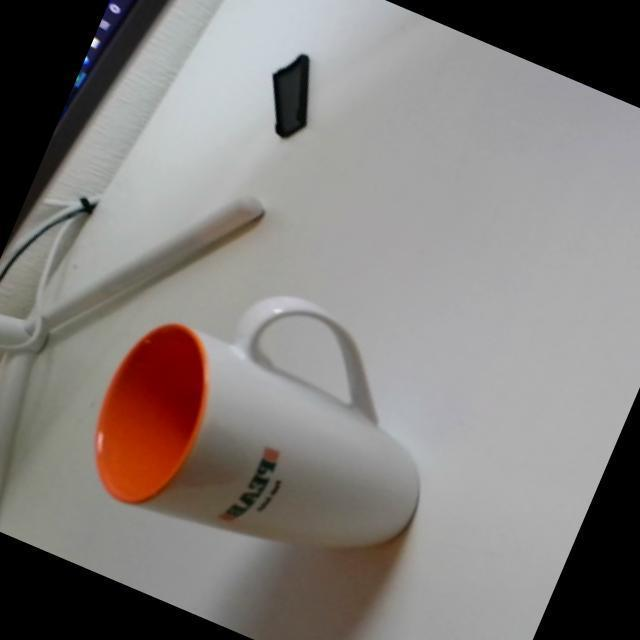cup: (64, 239, 474, 612)
